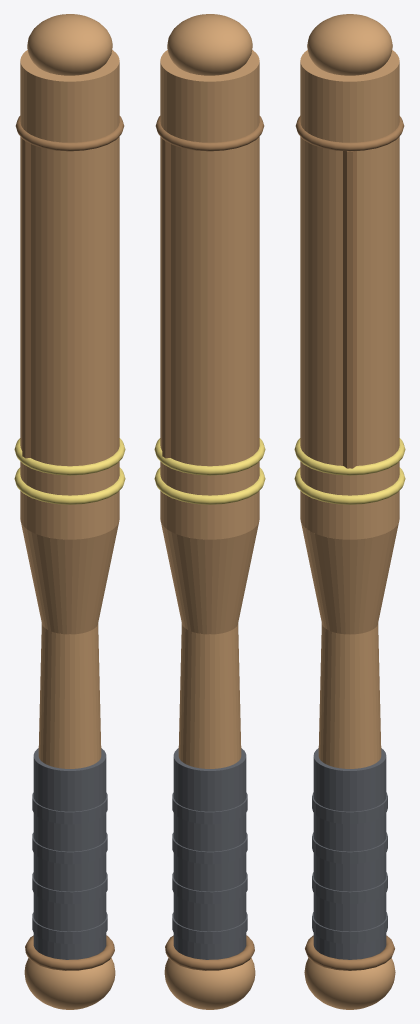
Rendered from wep_bat.glb.
3 renders of one model, left to right at view 1: azimuth 30°, elevation 25°; view 2: azimuth 210°, elevation 25°; view 3: azimuth 270°, elevation 25°, orthographic.
Parts seen in each view (by area): view 1: wep_bat_barrel, wep_bat_grip_wrap, wep_bat_grip_upper, wep_bat_shoulder, wep_bat_barrel_end, wep_bat_knob, wep_bat_grain_l, wep_bat_knob_ring, wep_bat_band_lower, wep_bat_band_upper, wep_bat_barrel_ring, wep_bat_wrap_rib3 (+3 smaller); view 2: wep_bat_barrel, wep_bat_grip_wrap, wep_bat_grip_upper, wep_bat_shoulder, wep_bat_barrel_end, wep_bat_knob, wep_bat_grain_r, wep_bat_knob_ring, wep_bat_band_lower, wep_bat_band_upper, wep_bat_barrel_ring, wep_bat_wrap_rib3 (+3 smaller); view 3: wep_bat_barrel, wep_bat_grip_wrap, wep_bat_grip_upper, wep_bat_shoulder, wep_bat_grain_r, wep_bat_barrel_end, wep_bat_knob, wep_bat_band_lower, wep_bat_knob_ring, wep_bat_band_upper, wep_bat_barrel_ring, wep_bat_wrap_rib0 (+3 smaller).
Boxes of the visible parts, x1,y1,x2,y2 form: wep_bat_barrel: [20, 50, 119, 539]; wep_bat_grip_wrap: [33, 748, 106, 959]; wep_bat_grip_upper: [38, 623, 101, 768]; wep_bat_shoulder: [20, 519, 119, 634]; wep_bat_barrel_end: [27, 14, 112, 75]; wep_bat_knob: [24, 957, 115, 1009]; wep_bat_grain_l: [22, 139, 30, 458]; wep_bat_knob_ring: [25, 935, 114, 970]; wep_bat_band_lower: [14, 467, 125, 504]; wep_bat_band_upper: [14, 438, 125, 475]; wep_bat_barrel_ring: [15, 116, 124, 151]; wep_bat_wrap_rib3: [32, 792, 107, 824]; wep_bat_barrel: [160, 50, 259, 539]; wep_bat_grip_wrap: [173, 748, 246, 959]; wep_bat_grip_upper: [178, 623, 241, 768]; wep_bat_shoulder: [160, 519, 259, 634]; wep_bat_barrel_end: [167, 14, 252, 75]; wep_bat_knob: [164, 957, 255, 1009]; wep_bat_grain_r: [162, 139, 170, 458]; wep_bat_knob_ring: [165, 935, 254, 970]; wep_bat_band_lower: [154, 467, 265, 504]; wep_bat_band_upper: [154, 438, 265, 475]; wep_bat_barrel_ring: [155, 116, 264, 151]; wep_bat_wrap_rib3: [172, 792, 247, 824]; wep_bat_barrel: [300, 50, 399, 539]; wep_bat_grip_wrap: [313, 748, 386, 959]; wep_bat_grip_upper: [318, 623, 381, 768]; wep_bat_shoulder: [301, 522, 398, 634]; wep_bat_grain_r: [343, 151, 356, 468]; wep_bat_barrel_end: [307, 14, 392, 75]; wep_bat_knob: [304, 958, 395, 1009]; wep_bat_band_lower: [294, 467, 405, 504]; wep_bat_knob_ring: [305, 935, 394, 970]; wep_bat_band_upper: [294, 438, 405, 475]; wep_bat_barrel_ring: [295, 116, 404, 150]; wep_bat_wrap_rib0: [312, 912, 387, 943].
Size of the model in its own units: 0.0756 by 0.74 by 0.0756.
